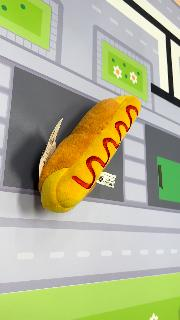hotdog: (38, 94, 142, 214)
